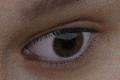eye: (53, 30, 84, 57)
